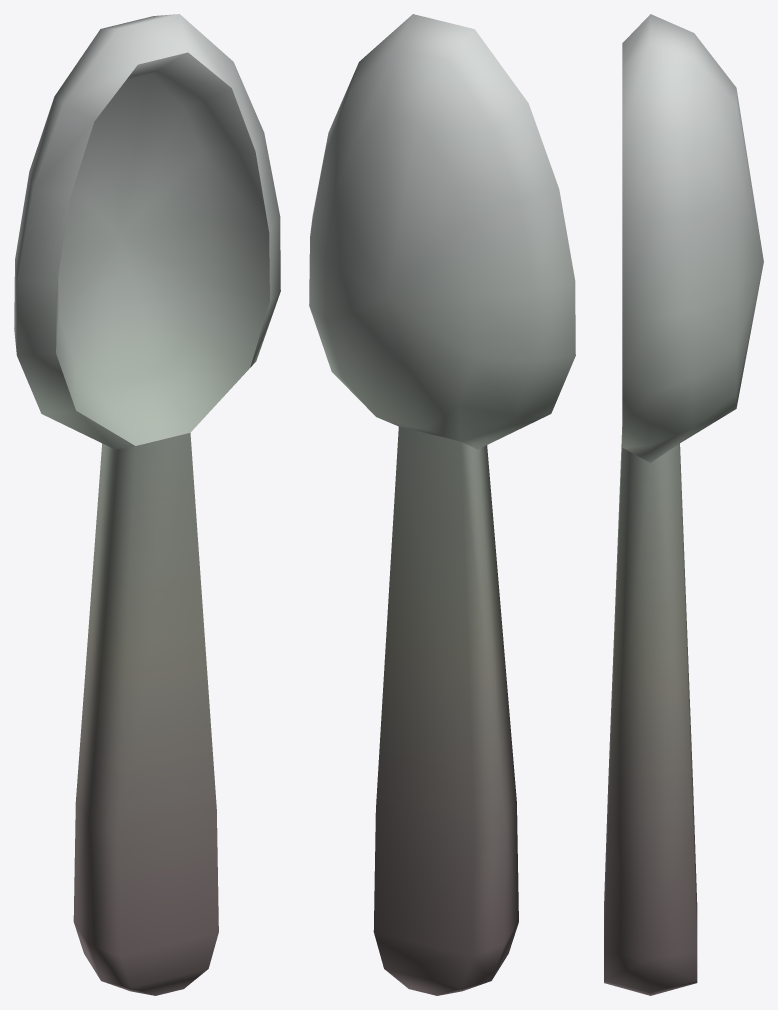
Rendered from Spoon_Small_02.glb.
The picture shows the model from 3 angles, left to right: view 1: azimuth 30°, elevation 25°; view 2: azimuth 150°, elevation 25°; view 3: azimuth 270°, elevation 25°; orthographic projection.
Visible parts, largest first — view 1: Spoon_Small_02; view 2: Spoon_Small_02; view 3: Spoon_Small_02.
Boxes of the visible parts, x1,y1,x2,y2 form: Spoon_Small_02: (14, 14, 280, 995); Spoon_Small_02: (309, 14, 575, 995); Spoon_Small_02: (604, 14, 763, 995).
Size of the model in its own units: 0.1195 by 0.4177 by 0.063.
1 material, 1 textured.
